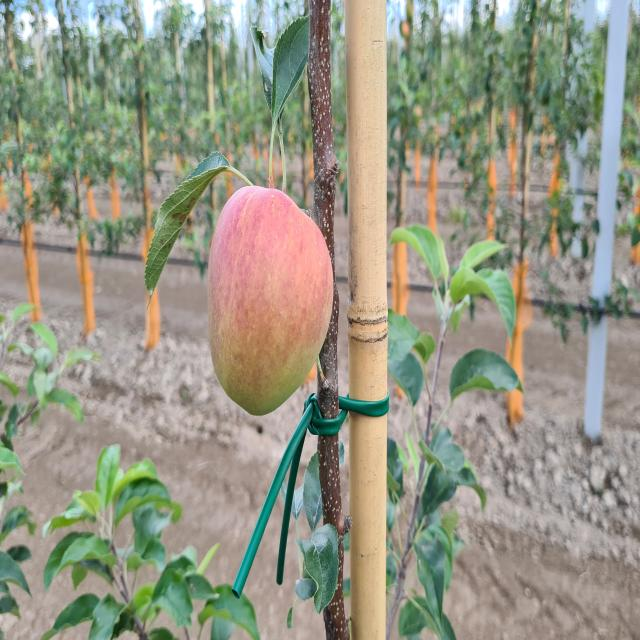Apple: (208, 187, 334, 416)
